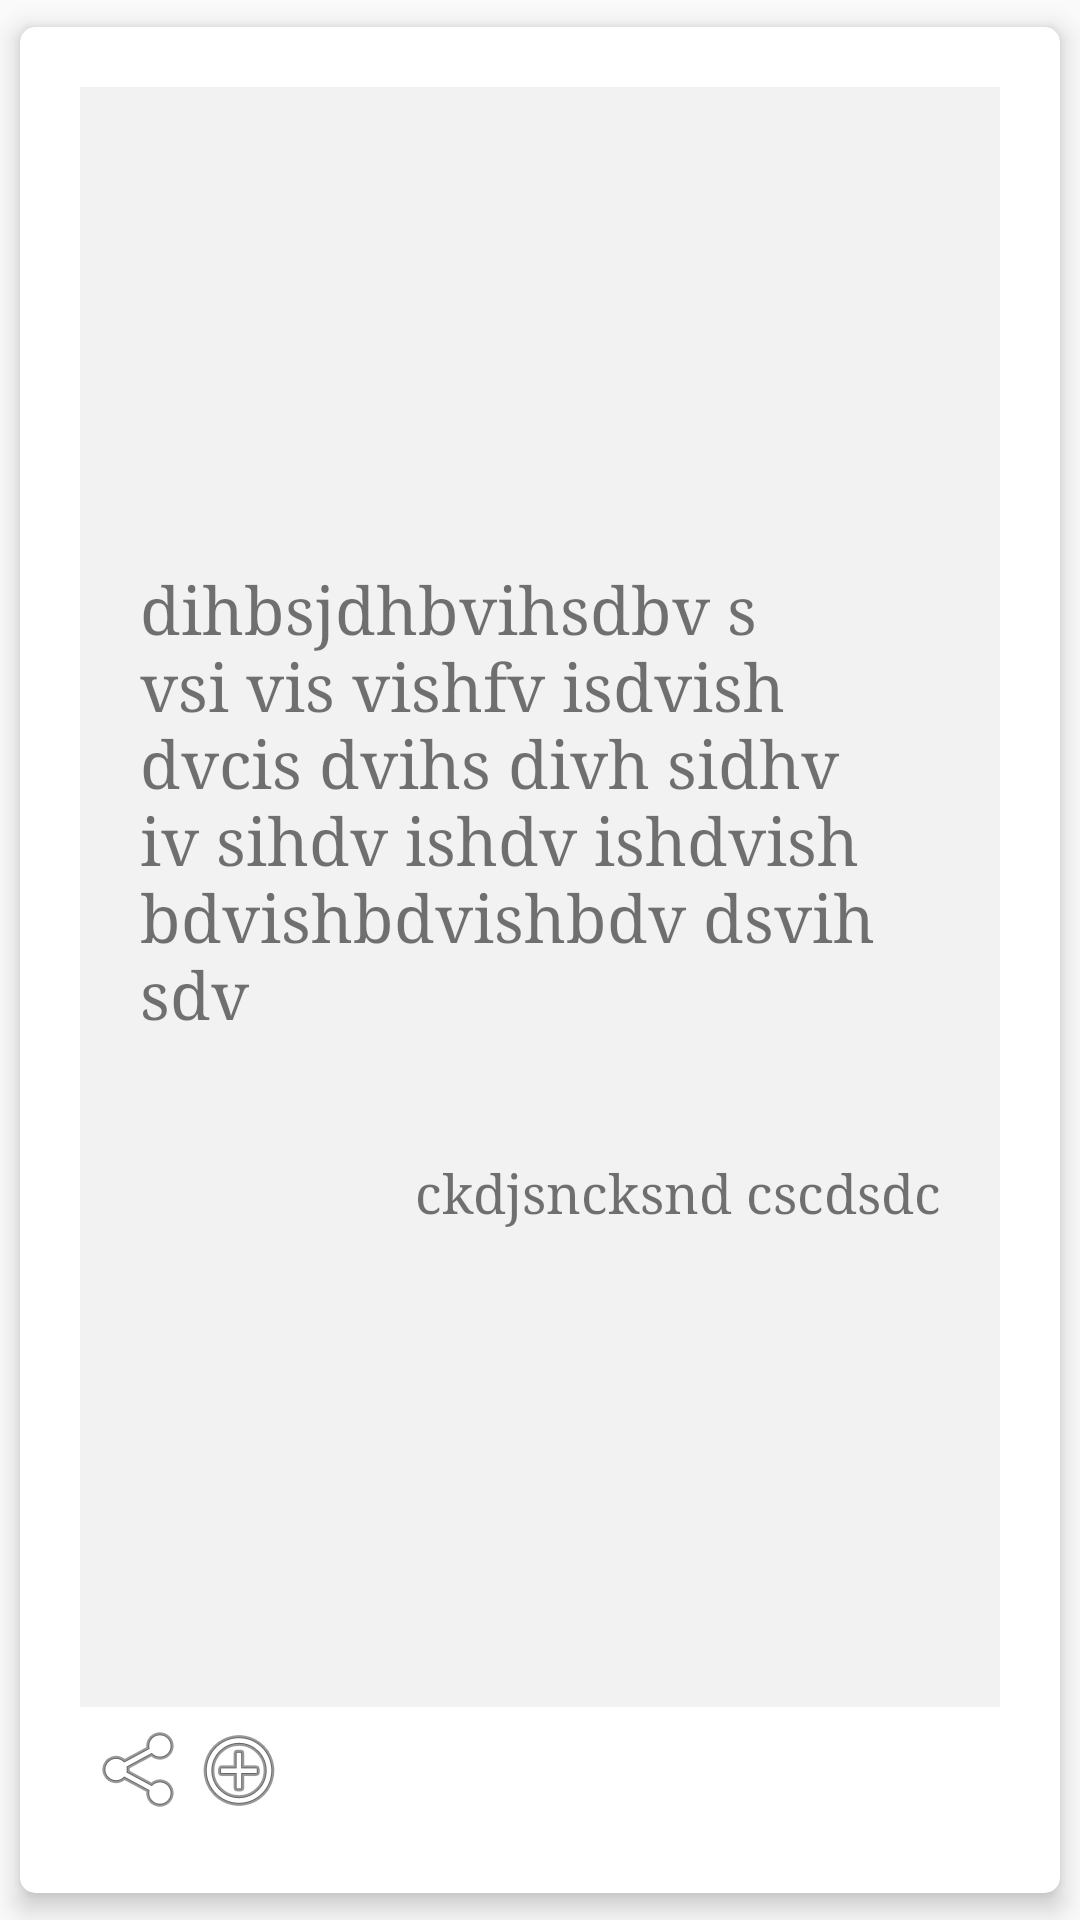

Icon bounding boxes for this 1080px x 1920px phone screenshot, format box=[x1, y1, x2, y2]:
add: box=[203, 1735, 275, 1806]
share: box=[102, 1732, 174, 1807]
